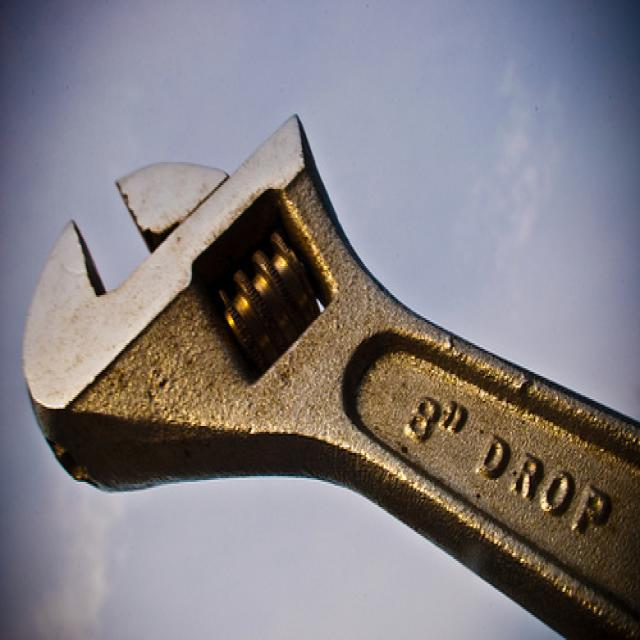wrench: (4, 87, 640, 622)
